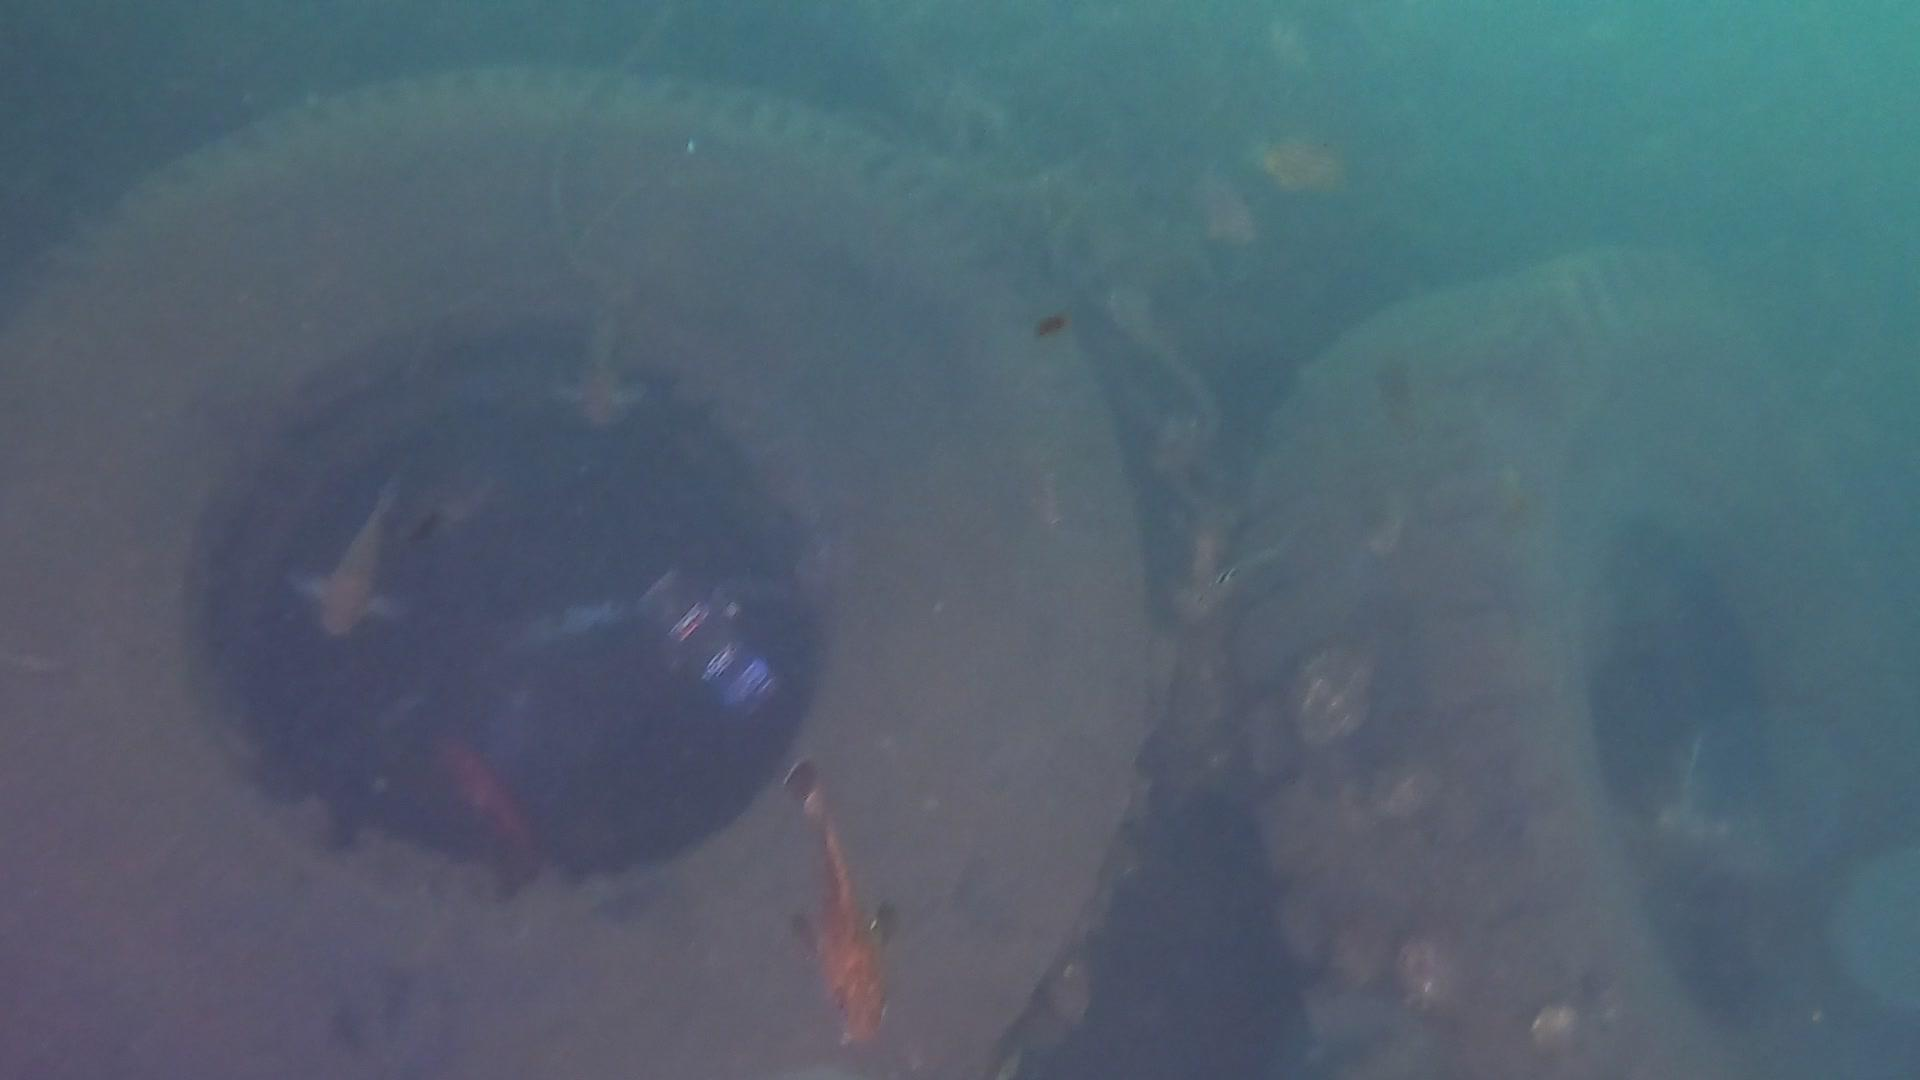tire: (3, 54, 1155, 1080), (1226, 247, 1920, 1080)
